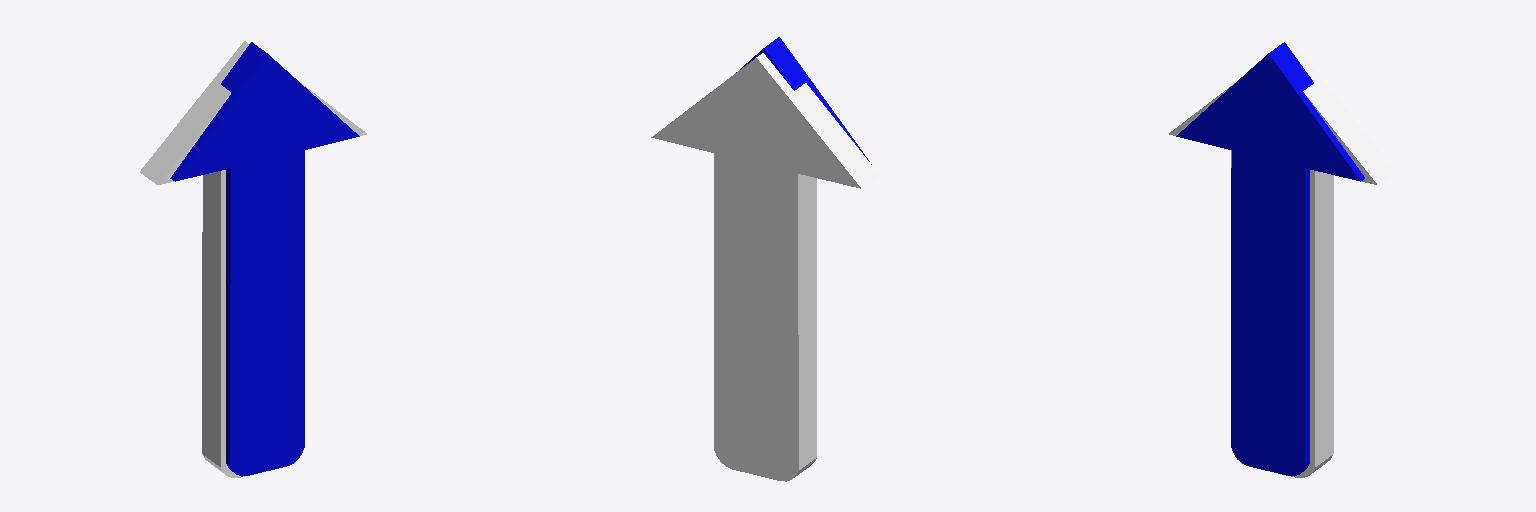
Rendered from Arrow.obj.
The picture shows the model from 3 angles: view 1: azimuth 30°, elevation 25°; view 2: azimuth 150°, elevation 25°; view 3: azimuth 330°, elevation 25°; orthographic projection.
Visible parts, largest first — view 1: obj_0; view 2: obj_0; view 3: obj_0.
Boxes of the visible parts, box(x1,y1,x2,y2) form: obj_0: box(140, 41, 366, 477); obj_0: box(651, 37, 879, 481); obj_0: box(1169, 41, 1395, 477).
Size of the model in its own units: 52.71 by 101 by 10.